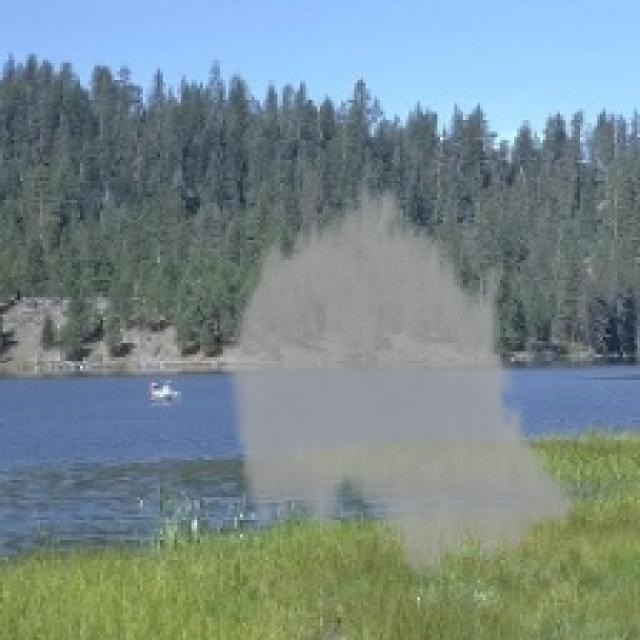Smoke: (222, 172, 578, 594)
